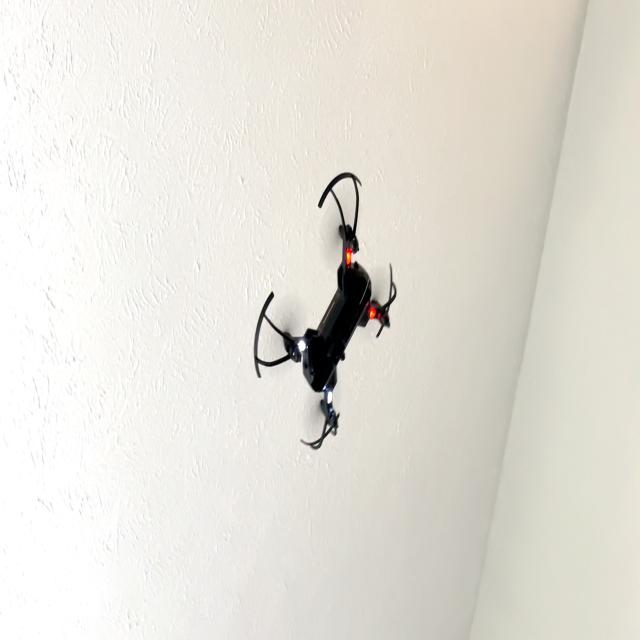drone: (248, 147, 404, 460)
